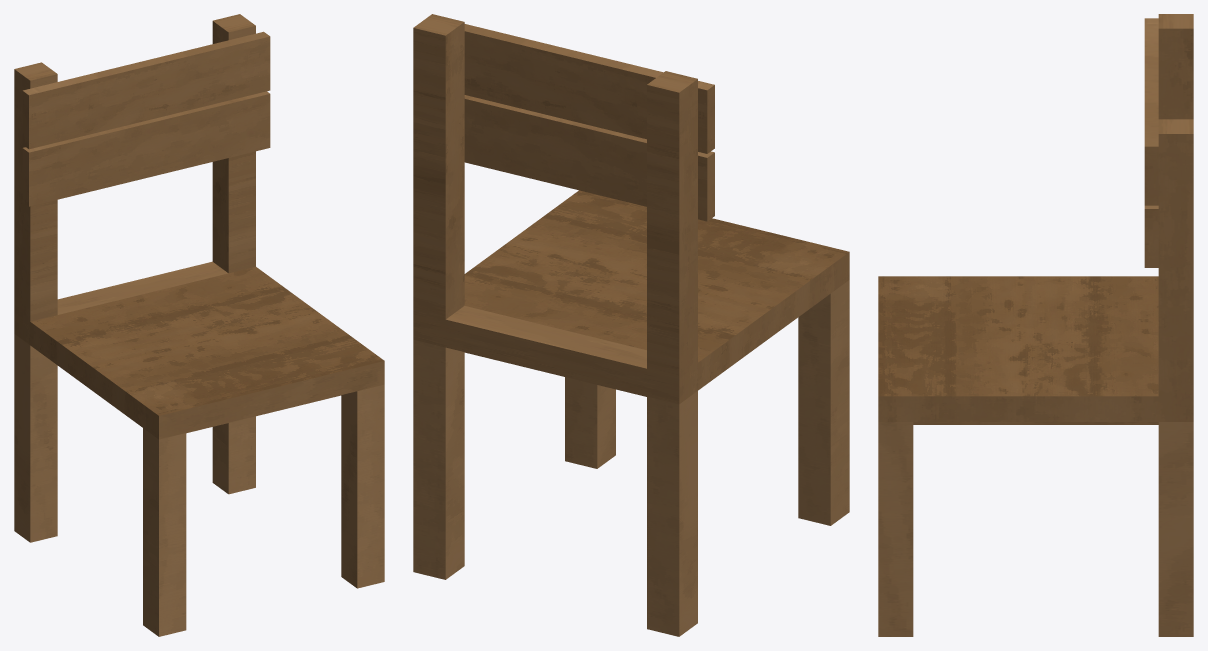
File: 장애물_의자.fbx
3 renders of one model, left to right at view 1: azimuth 30°, elevation 25°; view 2: azimuth 150°, elevation 25°; view 3: azimuth 270°, elevation 25°, orthographic. The views are drawn at different scales.
Visible parts, largest first — view 1: 의자; view 2: 의자; view 3: 의자.
Boxes of the visible parts, x1,y1,x2,y2 form: 의자: (14,14,384,636); 의자: (413,14,849,636); 의자: (878,14,1193,636).
Bounding box in the file's own units: 60.63 × 111 × 62.96.
1 material, 1 textured.
